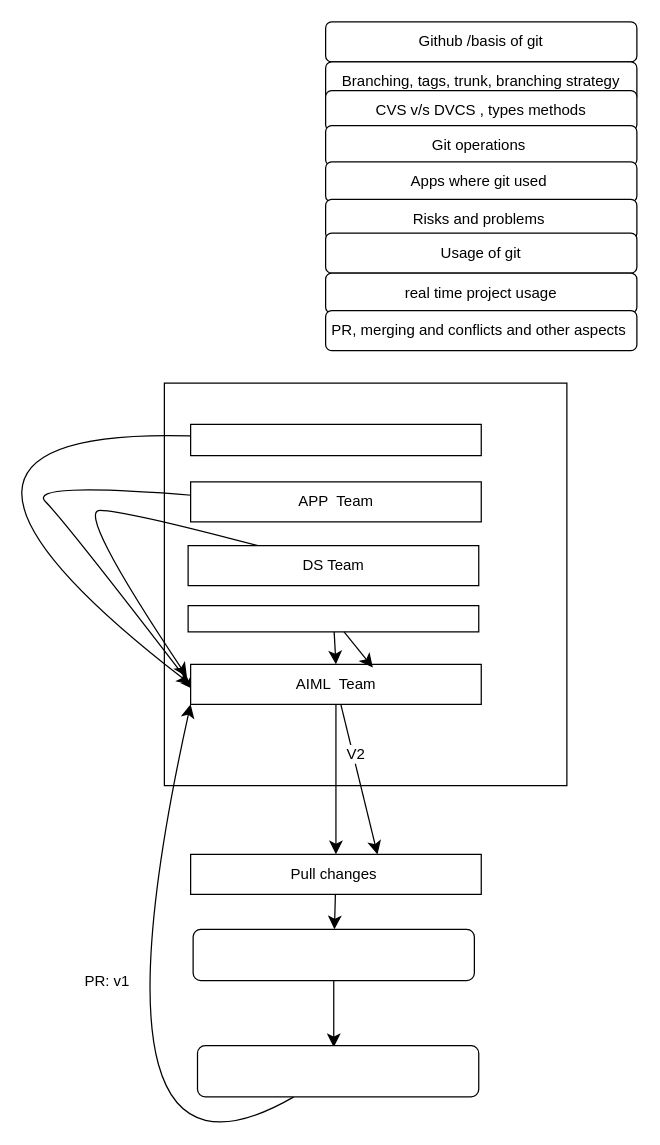
Some shapes in this 660 by 1145 pixel diagram are drawn without their labels. Here are the shapes that lost their labels. From the top down, the box of each, then its label:
(189, 423, 481, 456): Product Team
(187, 604, 479, 632): DE Team
(192, 928, 474, 981): Create branch
(196, 1044, 479, 1097): Mege changes
